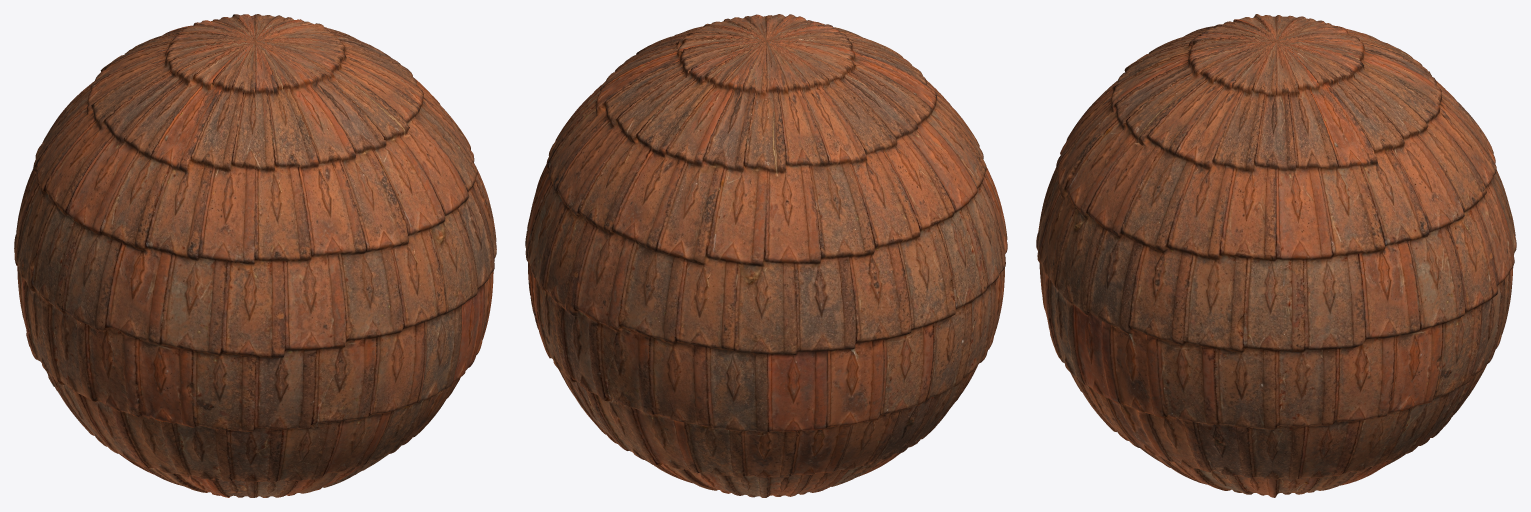
File: clay_roof_tiles_03_1k.gltf
3 renders of one model, left to right at view 1: azimuth 30°, elevation 25°; view 2: azimuth 150°, elevation 25°; view 3: azimuth 270°, elevation 25°, orthographic.
Visible parts, largest first — view 1: sphere_gltf; view 2: sphere_gltf; view 3: sphere_gltf.
Part boxes in pixels (x1,y1,x2,y2): sphere_gltf: (14,14,496,497); sphere_gltf: (525,14,1007,497); sphere_gltf: (1036,14,1516,497).
Bounding box in the file's own units: 2.62 × 2.62 × 2.63.
Materials: 1 (1 with a texture image).
